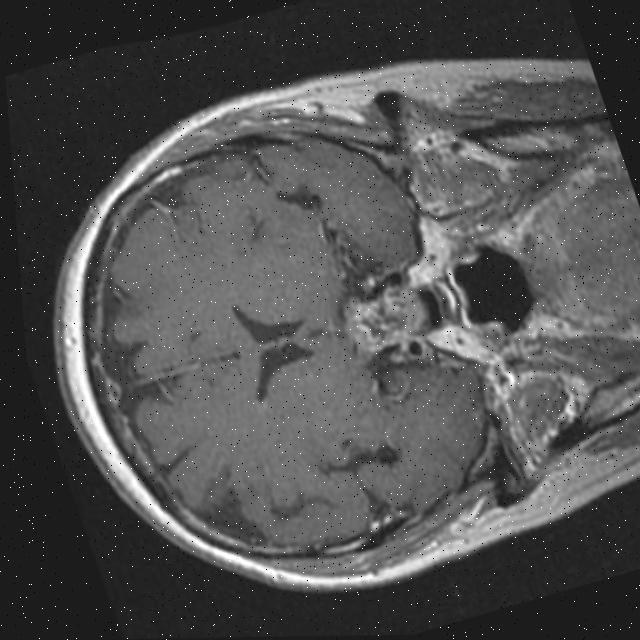Pituitary: (335, 276, 436, 358)
